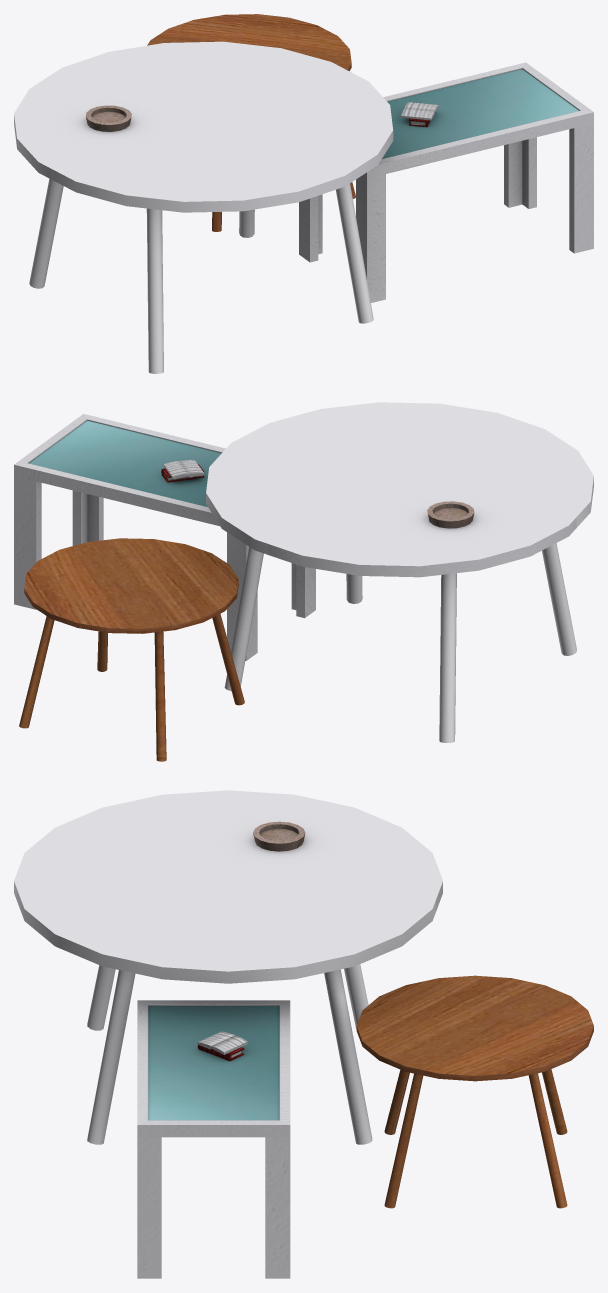
The model's file is Mesas.fbx.
3 views of the same model, one above another, from view 1: azimuth 30°, elevation 25°; view 2: azimuth 150°, elevation 25°; view 3: azimuth 270°, elevation 25° (orthographic). The views are drawn at different scales.
Parts seen in each view (by area): view 1: Plane001; view 2: Plane001; view 3: Plane001.
Boxes of the visible parts, bbox=[...] form: Plane001: bbox=[14, 14, 593, 373]; Plane001: bbox=[14, 402, 593, 761]; Plane001: bbox=[14, 790, 593, 1278].
Bounding box in the file's own units: 61.4 × 21.68 × 53.21.
1 material, 1 textured.
